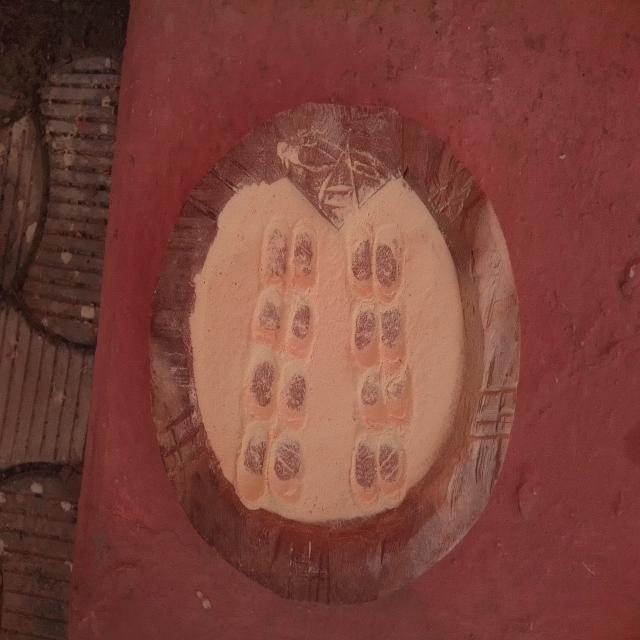double: (238, 423, 309, 497), (242, 354, 312, 426), (343, 222, 407, 296), (259, 213, 321, 289), (249, 288, 316, 357), (350, 292, 406, 365), (356, 362, 416, 430), (348, 430, 408, 498)
